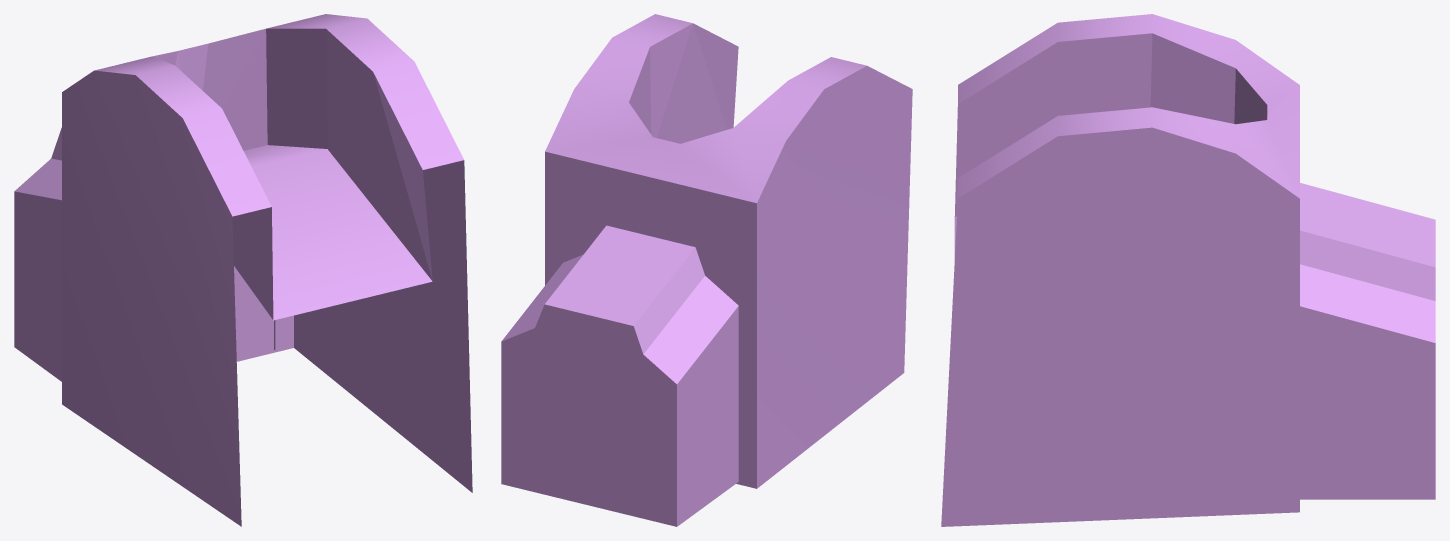
The picture shows the model from 3 angles, left to right: view 1: azimuth 30°, elevation 25°; view 2: azimuth 150°, elevation 25°; view 3: azimuth 270°, elevation 25°; orthographic projection. The views are drawn at different scales.
Parts seen in each view (by area): view 1: Object43; view 2: Object43; view 3: Object43.
Part boxes in pixels (x1,y1,x2,y2): Object43: (14,14,472,526); Object43: (501,14,912,526); Object43: (941,14,1435,526).
Bounding box in the file's own units: 15696 × 25731 × 28878.
